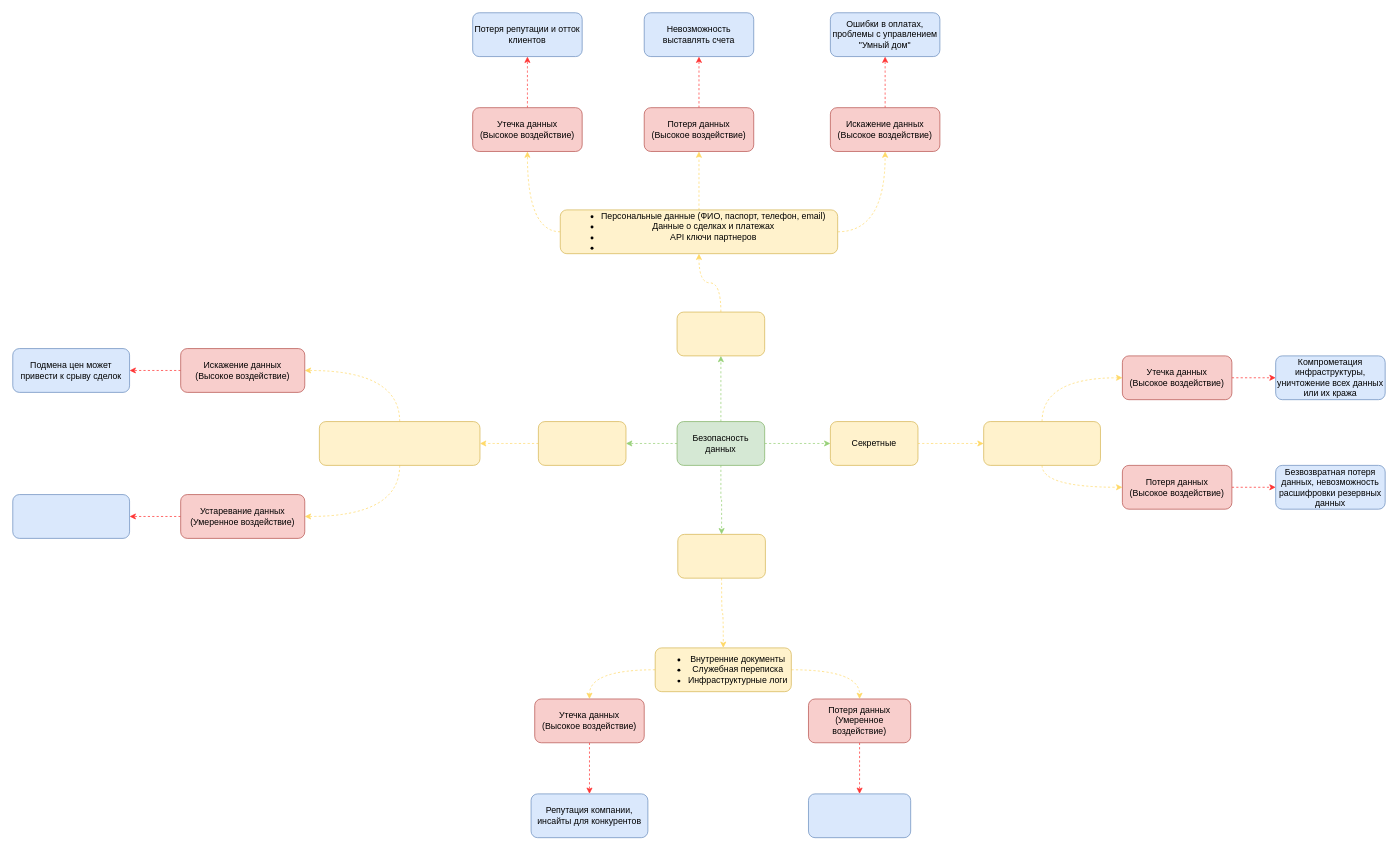
The diagram is 1398 pixels wide and 850 high, and some of its shapes have lost their labels. Each missing label, with the box of its shape:
Внутрение: (677, 534, 765, 578)
Информация о ЖК на витрине Публичные новости: (319, 421, 480, 465)
Конфиденциальные: (676, 311, 765, 356)
Пароли от БД Админский доступ Ключи шифрования: (983, 421, 1100, 465)
Потеря потенциальных клиентов: (12, 494, 130, 538)
Приостановка деятельности или замедление работы: (808, 793, 911, 838)
Публичные: (538, 421, 626, 465)
